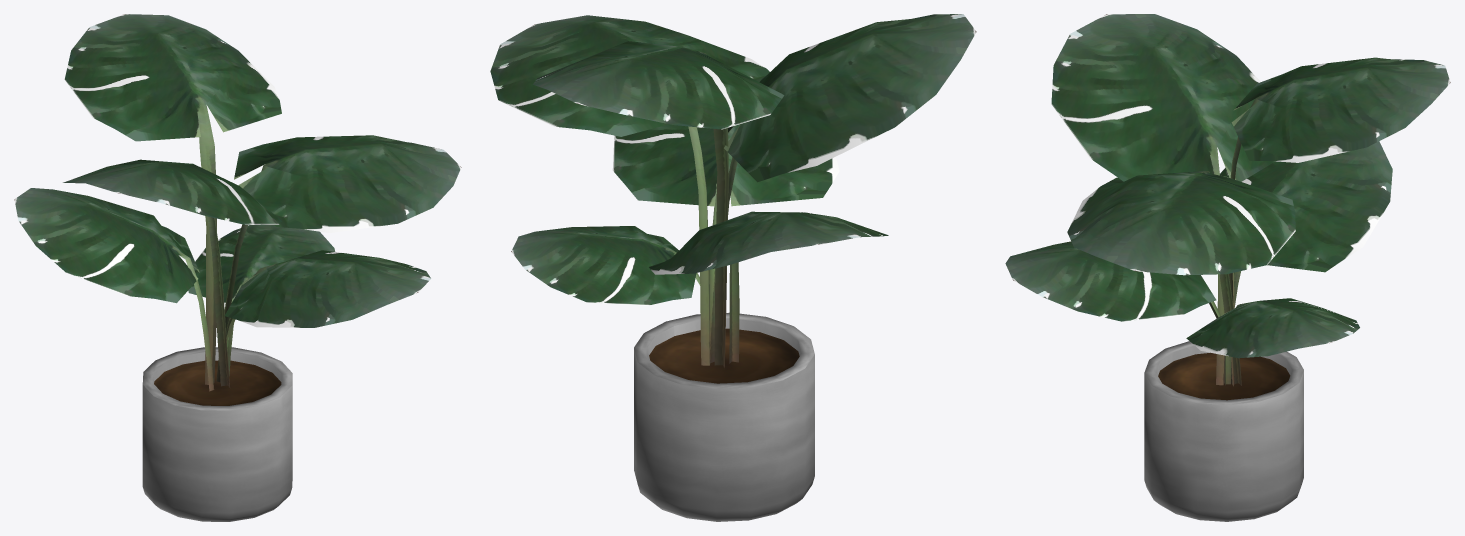
3 renders of one model, left to right at view 1: azimuth 30°, elevation 25°; view 2: azimuth 150°, elevation 25°; view 3: azimuth 270°, elevation 25°, orthographic. The views are drawn at different scales.
Visible parts, largest first — view 1: Large Plant.001; view 2: Large Plant.001; view 3: Large Plant.001.
Part boxes in pixels (left/top/right/bottom): Large Plant.001: left=14, top=14, right=461, bottom=521; Large Plant.001: left=490, top=14, right=976, bottom=521; Large Plant.001: left=1005, top=14, right=1450, bottom=521.
Bounding box in the file's own units: 0.7392 × 0.7776 × 0.7298.
Materials: 2 (2 with a texture image).
